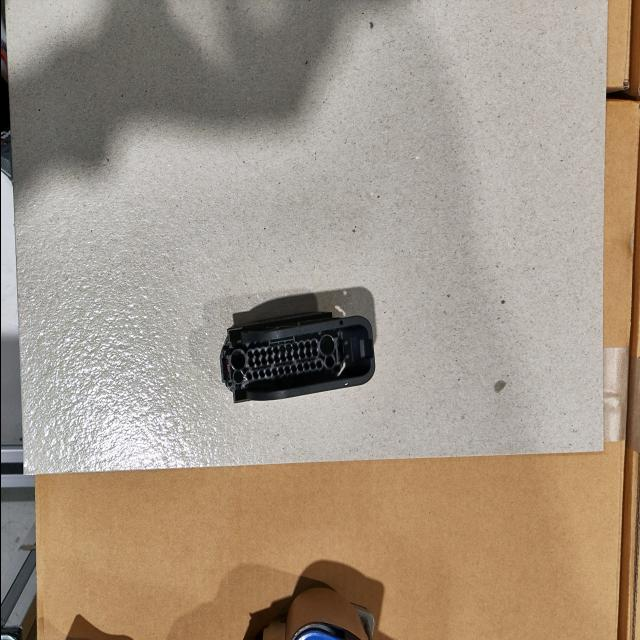P38: (220, 312, 374, 403)
